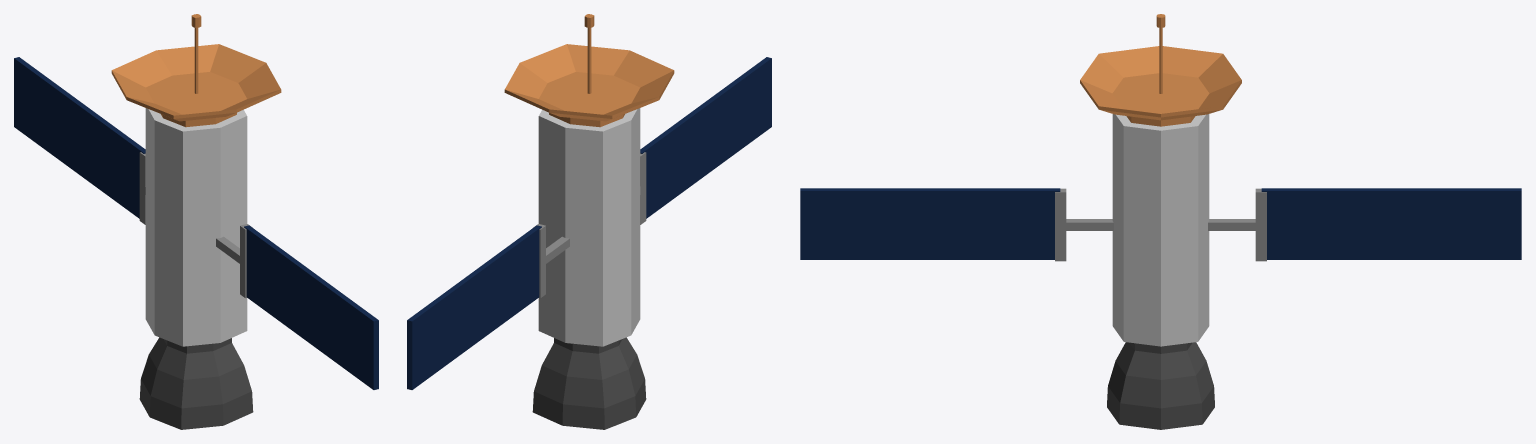
The model's file is Debris 001.fbx.
3 renders of one model, left to right at view 1: azimuth 30°, elevation 25°; view 2: azimuth 150°, elevation 25°; view 3: azimuth 270°, elevation 25°, orthographic.
Visible parts, largest first — view 1: Cube; view 2: Cube; view 3: Cube.
Boxes of the visible parts, <box> form: Cube: <box>14,14,378,429</box>; Cube: <box>407,14,771,429</box>; Cube: <box>800,14,1521,429</box>.
Size of the model in its own units: 435 by 1160 by 1939.
